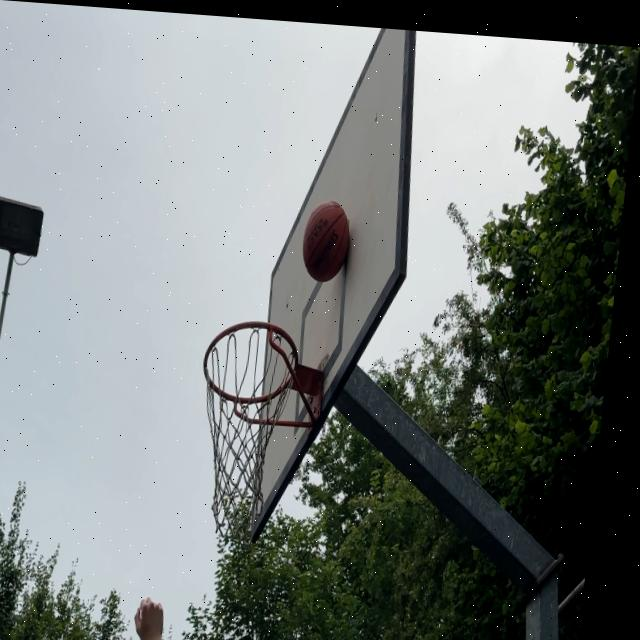rebound_hit: (300, 199, 355, 283)
